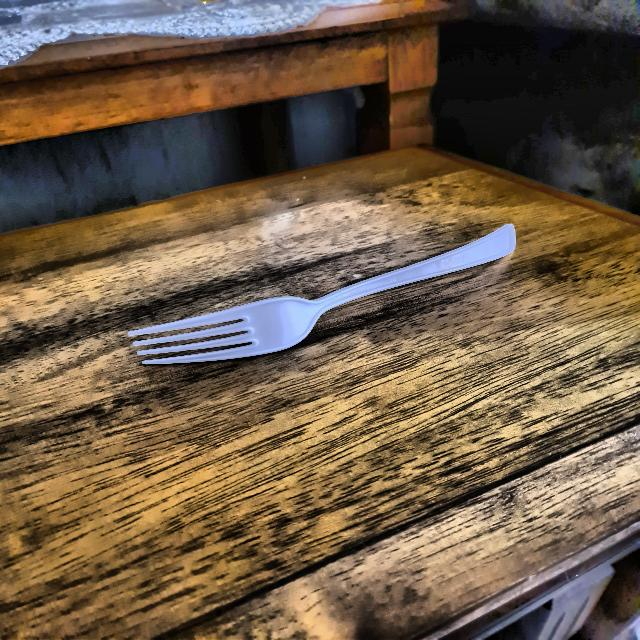plastic utensil: (125, 218, 526, 369)
